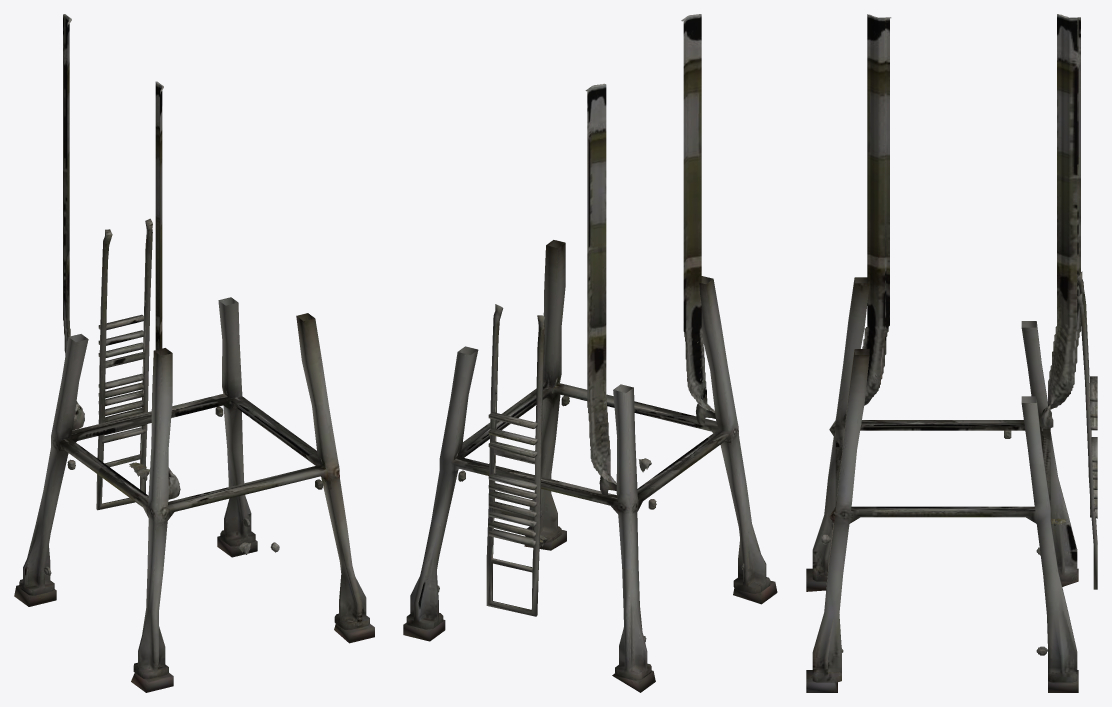
Rendered from watchtower.glb.
3 renders of one model, left to right at view 1: azimuth 30°, elevation 25°; view 2: azimuth 150°, elevation 25°; view 3: azimuth 270°, elevation 25°, orthographic. The views are drawn at different scales.
Parts seen in each view (by area): view 1: tripo_node_13969156-4d14-46e0-9b67-66cd3c7cf57a; view 2: tripo_node_13969156-4d14-46e0-9b67-66cd3c7cf57a; view 3: tripo_node_13969156-4d14-46e0-9b67-66cd3c7cf57a.
Boxes of the visible parts, box(x1,y1,x2,y2) form: tripo_node_13969156-4d14-46e0-9b67-66cd3c7cf57a: box(14, 14, 374, 692); tripo_node_13969156-4d14-46e0-9b67-66cd3c7cf57a: box(403, 14, 777, 692); tripo_node_13969156-4d14-46e0-9b67-66cd3c7cf57a: box(806, 14, 1097, 692).
Bounding box in the file's own units: 0.4207 × 1 × 0.4501.
1 material, 1 textured.
